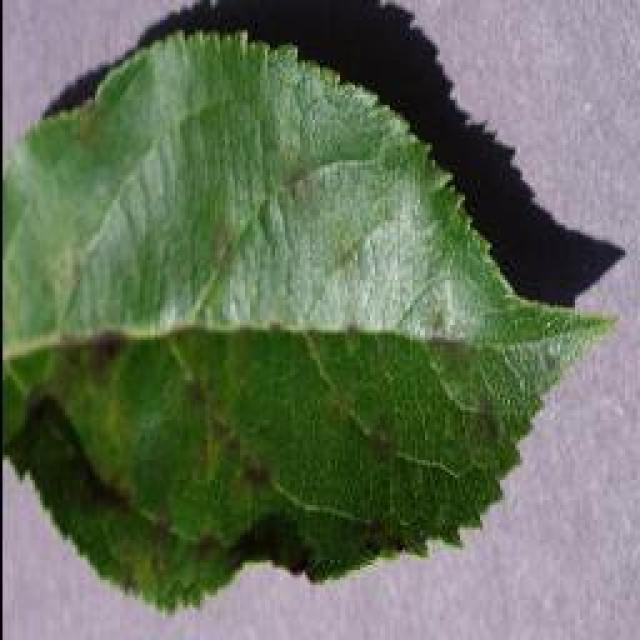apple scab disease: (0, 18, 618, 612)
